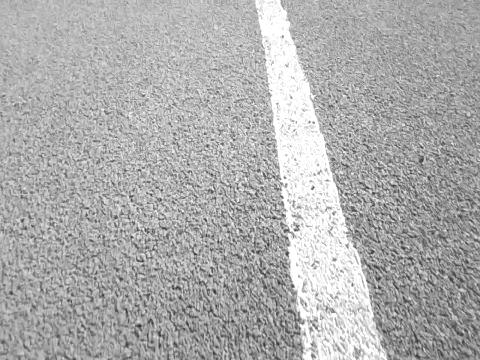Lines: (252, 0, 388, 360)
